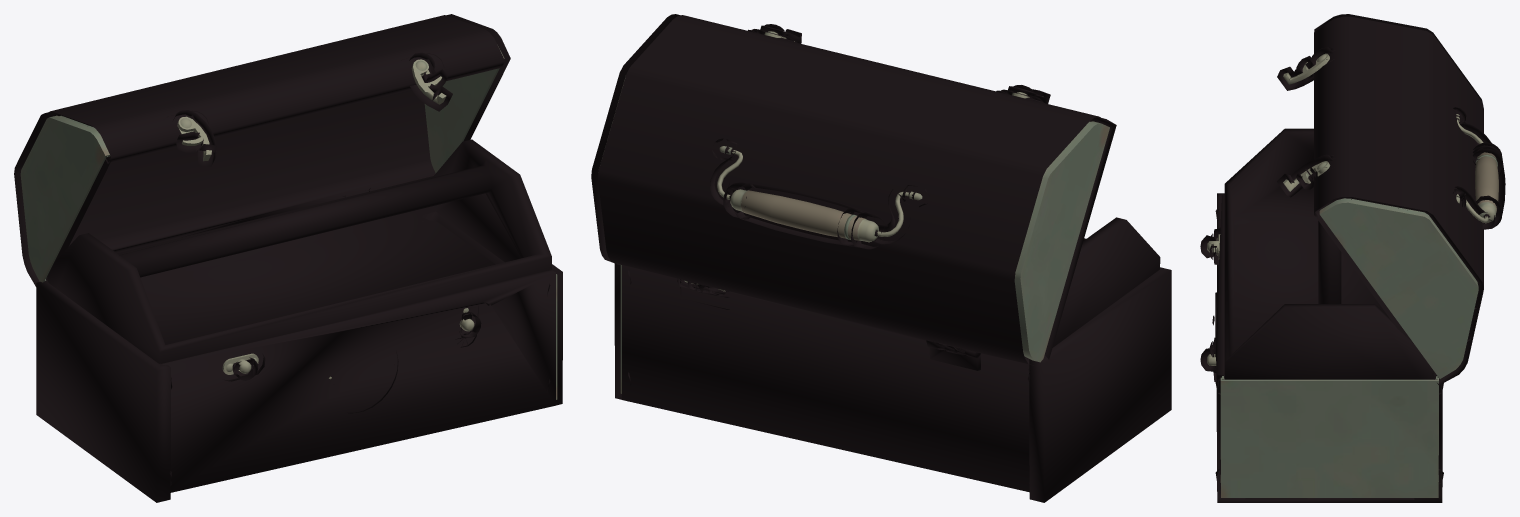
Rendered from SM_Int_Toolbox.fbx.
3 renders of one model, left to right at view 1: azimuth 30°, elevation 25°; view 2: azimuth 150°, elevation 25°; view 3: azimuth 270°, elevation 25°, orthographic. The views are drawn at different scales.
Visible parts, largest first — view 1: SM_Int_Toolbox; view 2: SM_Int_Toolbox; view 3: SM_Int_Toolbox.
Part boxes in pixels (<box>): SM_Int_Toolbox: <box>14,14,562,502</box>; SM_Int_Toolbox: <box>591,14,1171,502</box>; SM_Int_Toolbox: <box>1200,14,1505,502</box>.
Size of what is drawn, in the model's own units: 0.4082 by 0.3158 by 0.2825.
